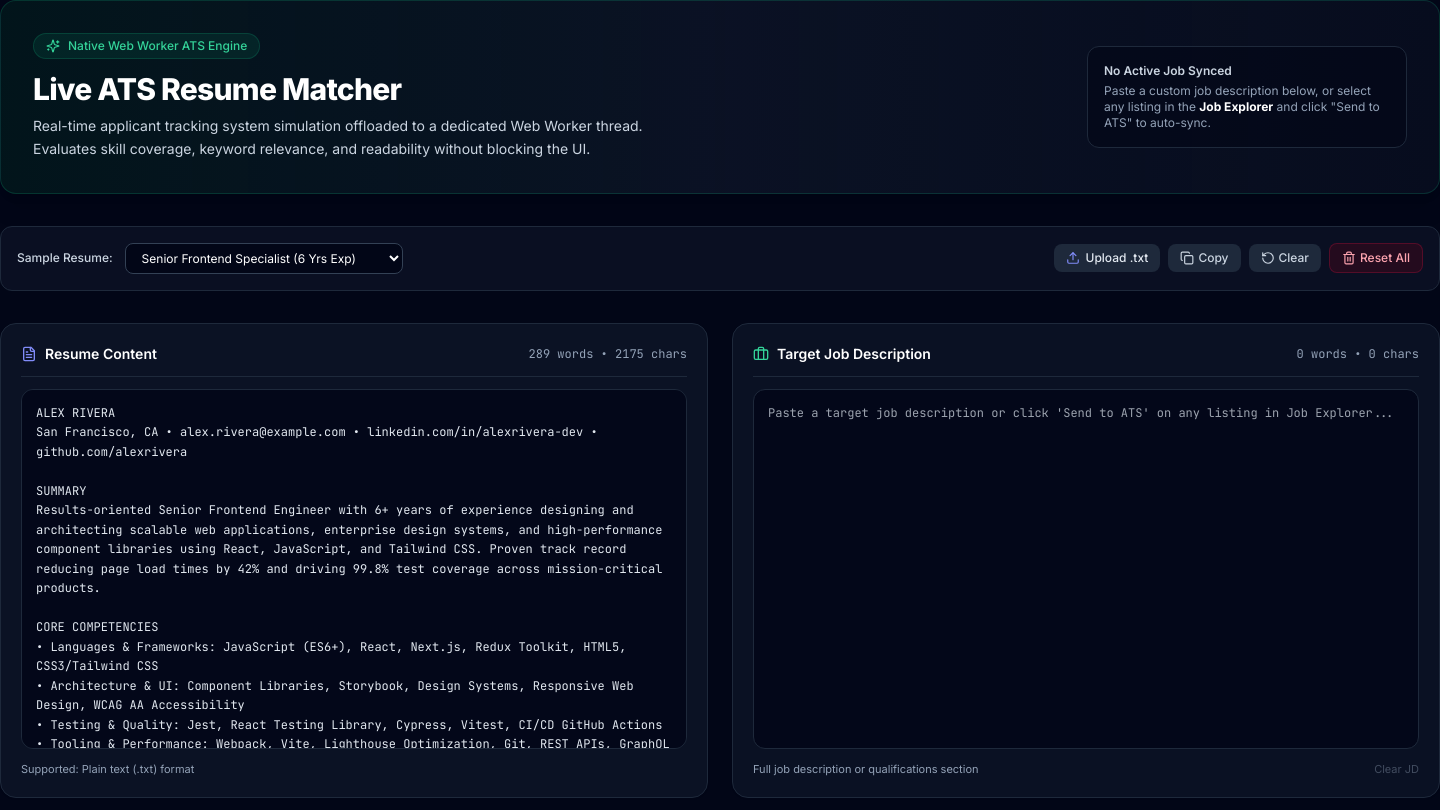
Module 2: Complete ATS Matcher UI Tests › shows live character and word counters updating with input
Replace the text in the text box labelled "Target Job Description" with "Senior React Developer with TypeScript and Tailwind CSS experience." at (1086, 568), box [753,388,1419,748]
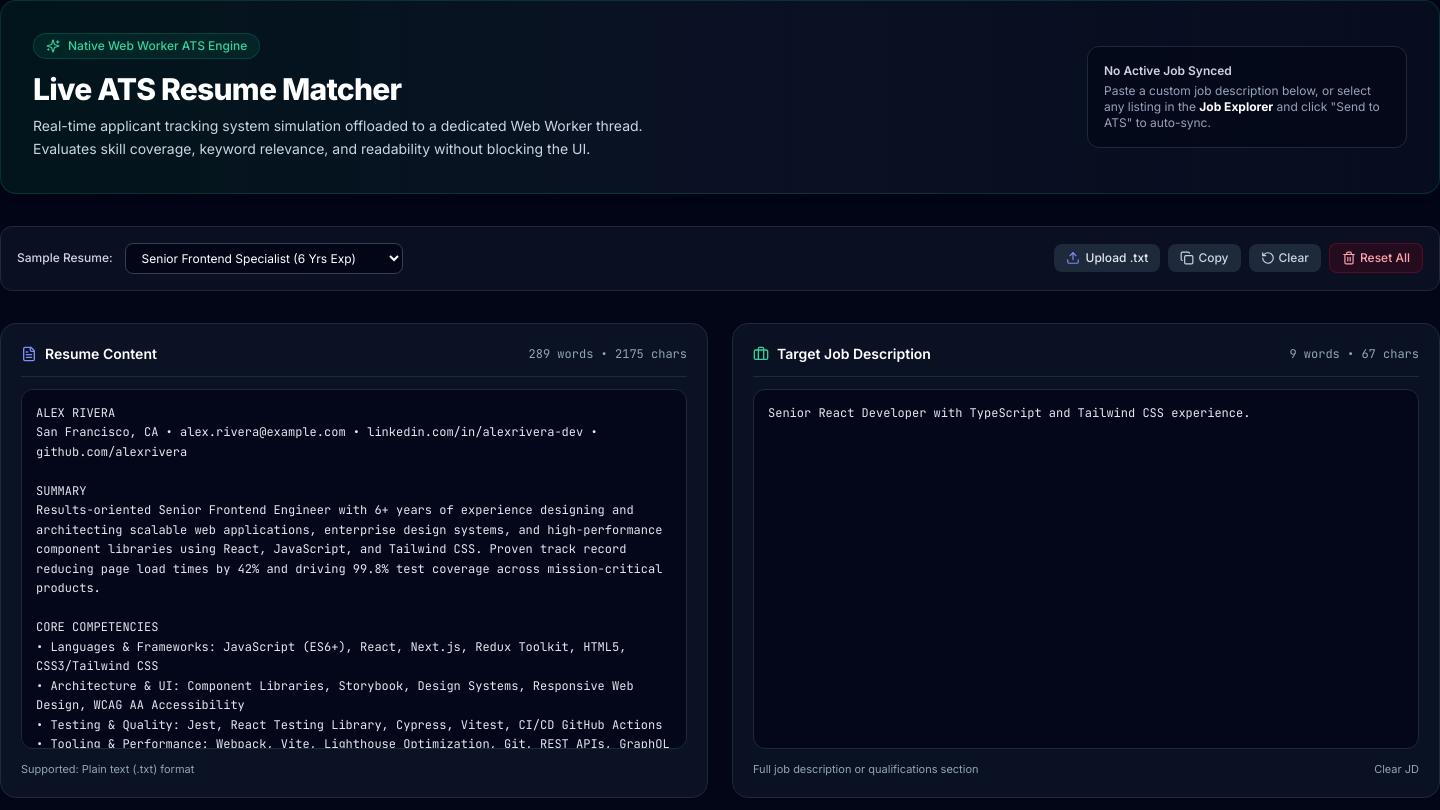
Check: the text "9 words • 67 chars" is shown, box [1289,346,1419,362]
